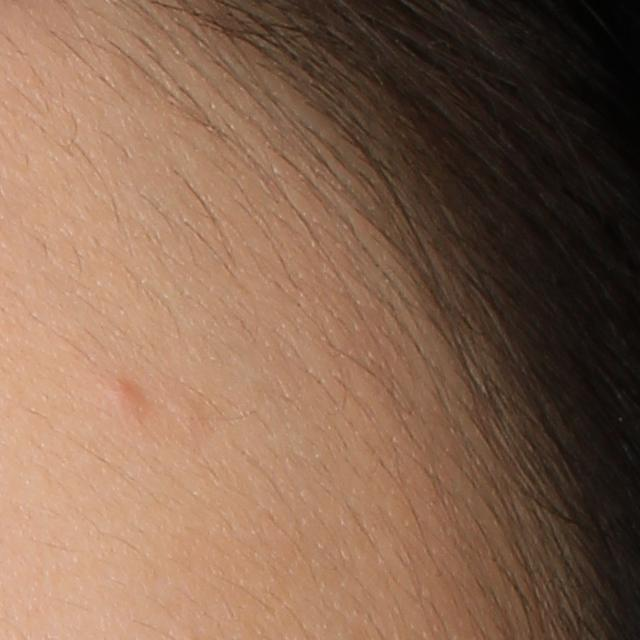papule: (107, 376, 144, 411)
